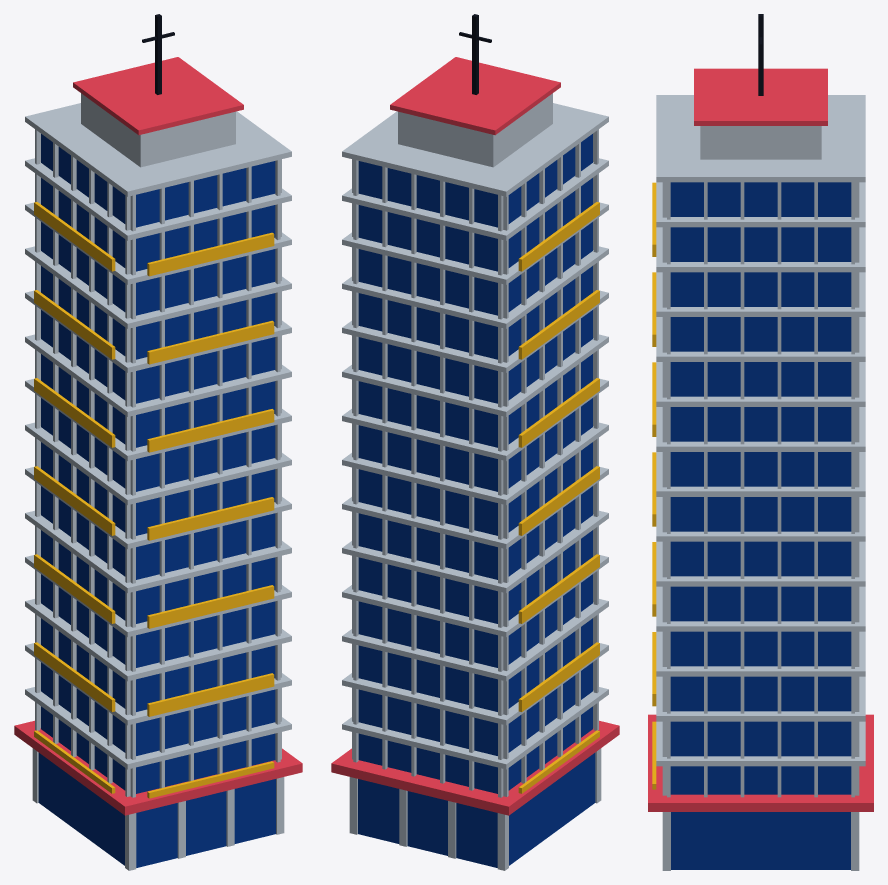
File: citypop_hotel_tower_b.glb
The picture shows the model from 3 angles, left to right: view 1: azimuth 30°, elevation 25°; view 2: azimuth 150°, elevation 25°; view 3: azimuth 270°, elevation 25°; orthographic projection.
Visible parts, largest first — view 1: ModernistHotel; view 2: ModernistHotel; view 3: ModernistHotel.
Part boxes in pixels (box(x1,y1,x2,y2)): ModernistHotel: box(14, 14, 302, 870); ModernistHotel: box(331, 14, 619, 870); ModernistHotel: box(648, 14, 873, 870).
Bounding box in the file's own units: 13.5 × 58.2 × 14.58.
